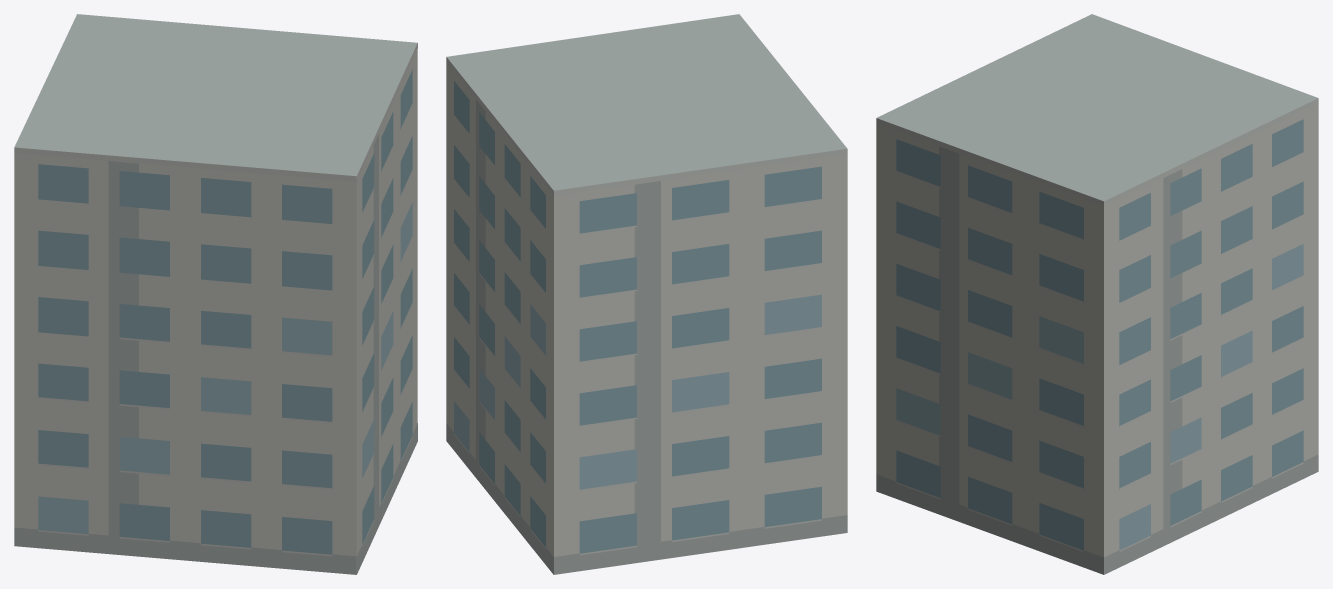
File: survey-upis-32893280.glb
The picture shows the model from 3 angles, left to right: view 1: azimuth 30°, elevation 25°; view 2: azimuth 150°, elevation 25°; view 3: azimuth 270°, elevation 25°; orthographic projection. The views are drawn at different scales.
Visible parts, largest first — view 1: survey-upis-32893280.tmp; view 2: survey-upis-32893280.tmp; view 3: survey-upis-32893280.tmp.
Boxes of the visible parts, left/top/right/bottom form: survey-upis-32893280.tmp: left=14, top=14, right=417, bottom=574; survey-upis-32893280.tmp: left=446, top=14, right=847, bottom=574; survey-upis-32893280.tmp: left=876, top=14, right=1318, bottom=574.
Bounding box in the file's own units: 18.41 × 17.1 × 18.36.
